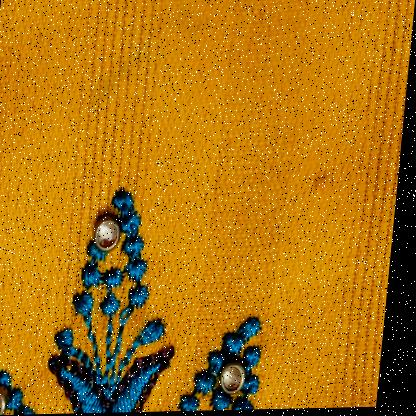spot: (83, 65, 130, 113)
